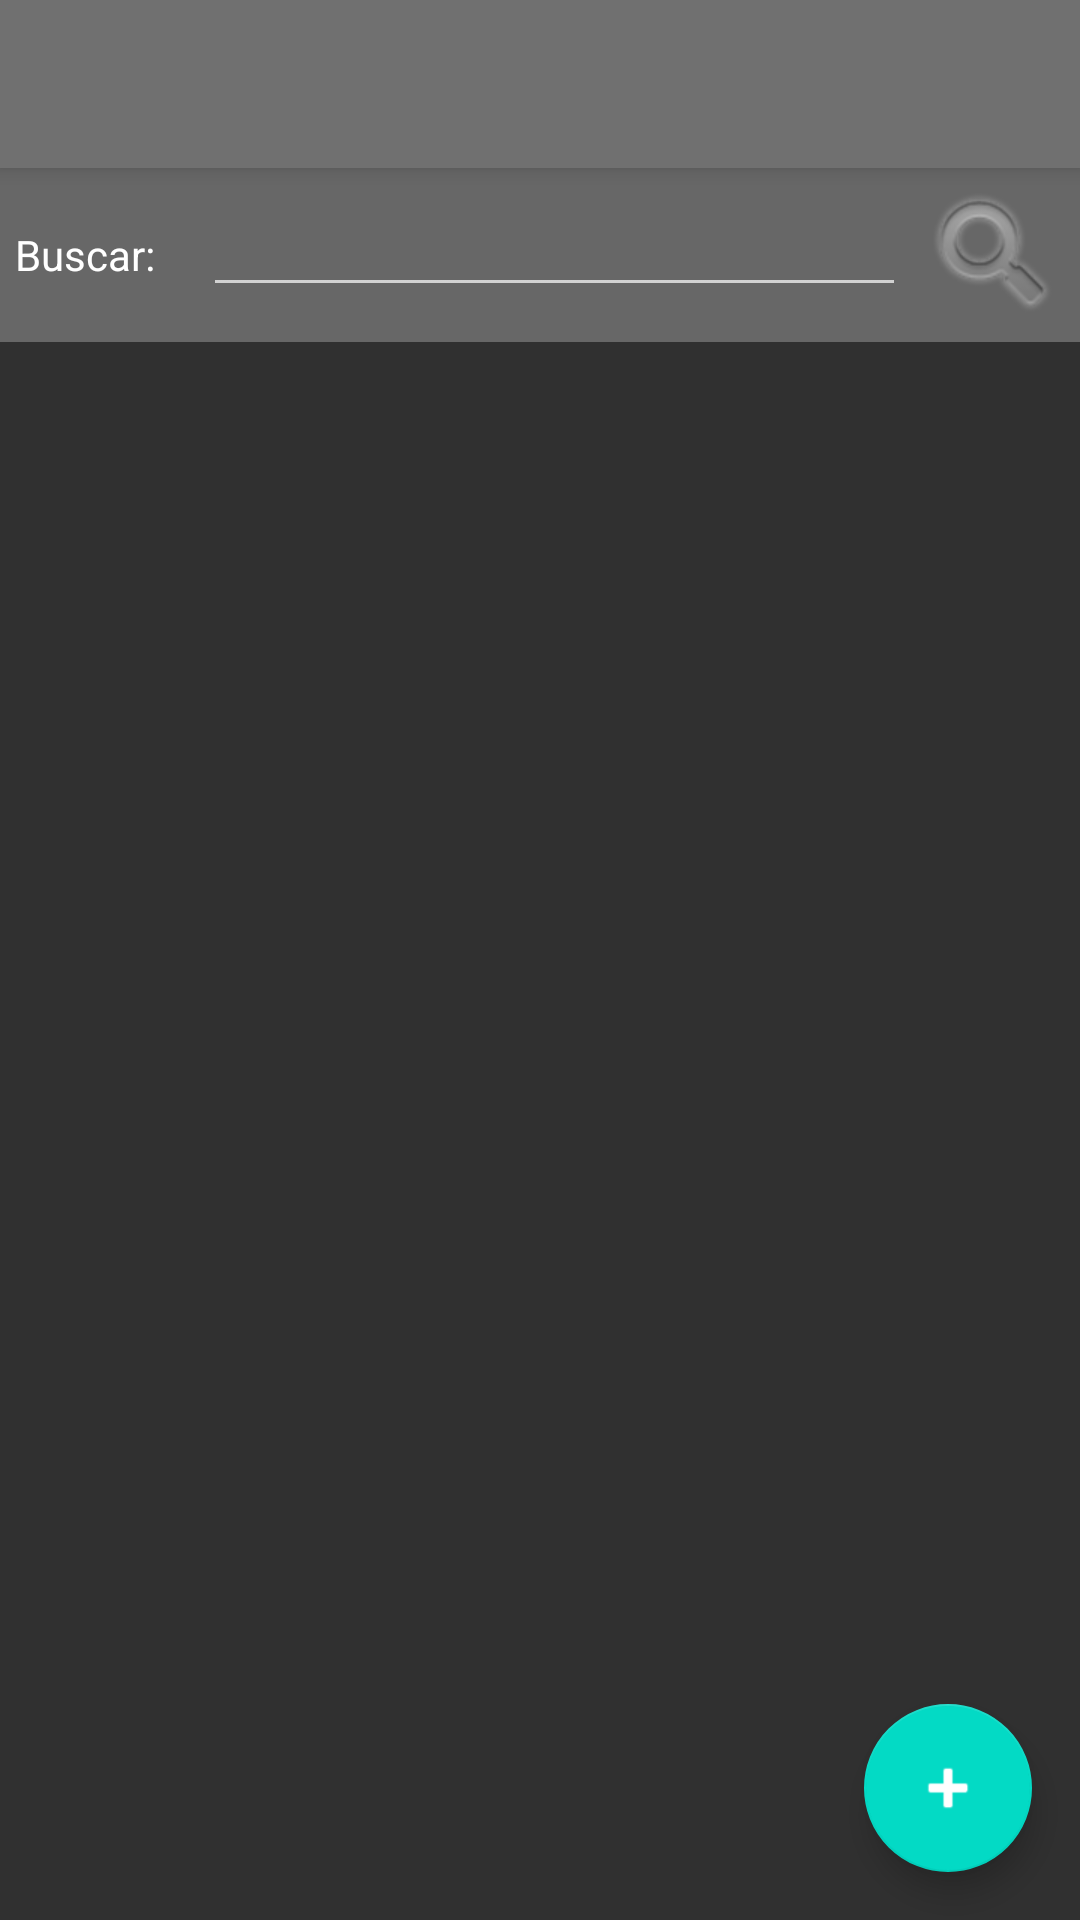

Where to tap for icons on this 1080 × 1920 app screen, as point (x, y):
add: point (948, 1788)
search category: point (992, 253)
